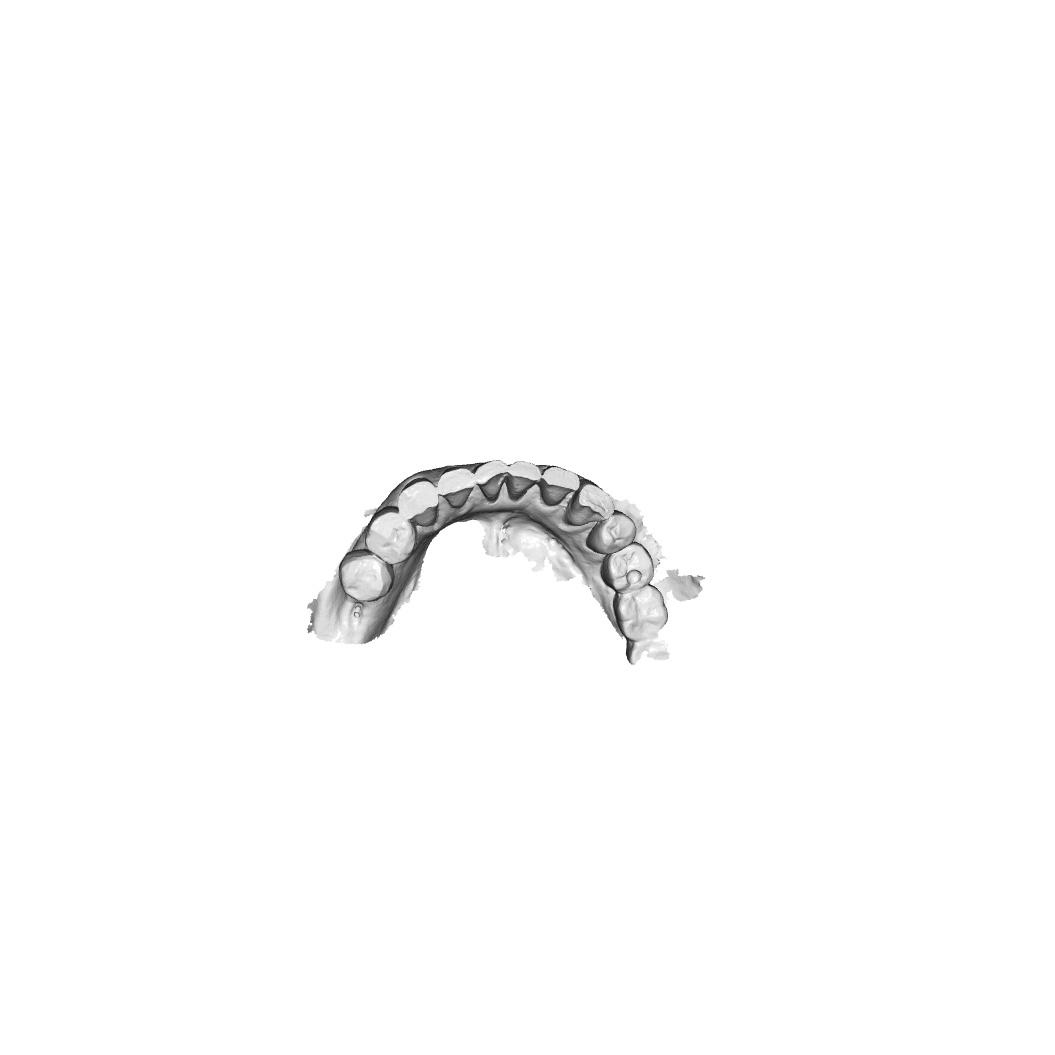canine: (564, 482, 615, 527), (396, 477, 440, 529)
incisor: (541, 465, 581, 507), (437, 466, 475, 509), (474, 459, 509, 503), (506, 460, 541, 502)
molar: (612, 583, 669, 641)
premolar: (364, 505, 418, 566), (338, 548, 395, 603), (600, 541, 655, 593), (585, 510, 637, 555)
